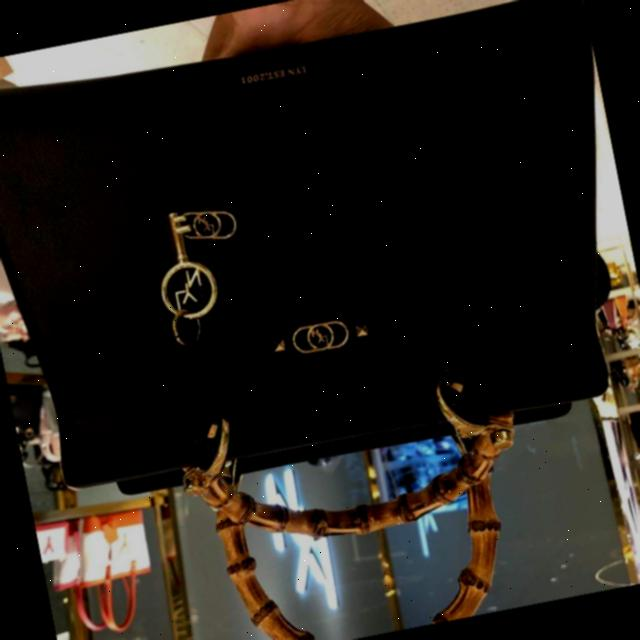Handbag: (0, 0, 640, 628)
